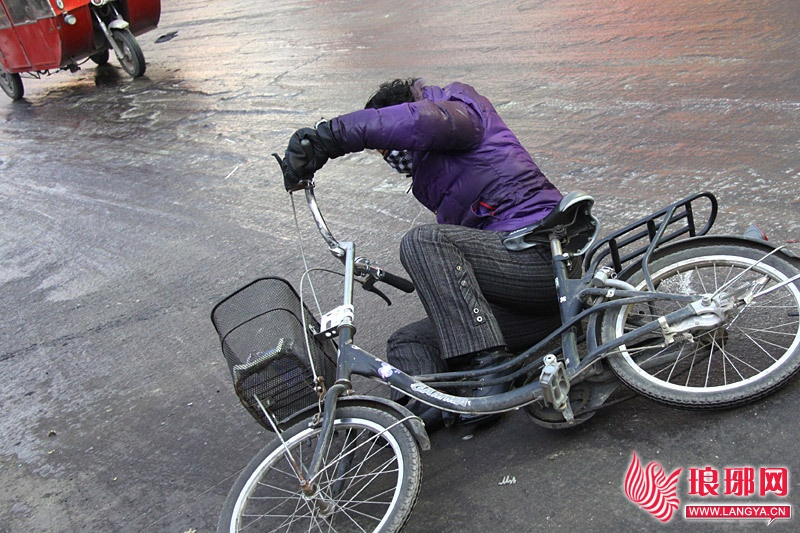falling: (266, 56, 622, 424)
